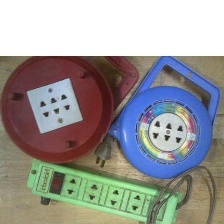three_eye_plug: (24, 152, 186, 224), (1, 59, 108, 167), (112, 80, 220, 184)
